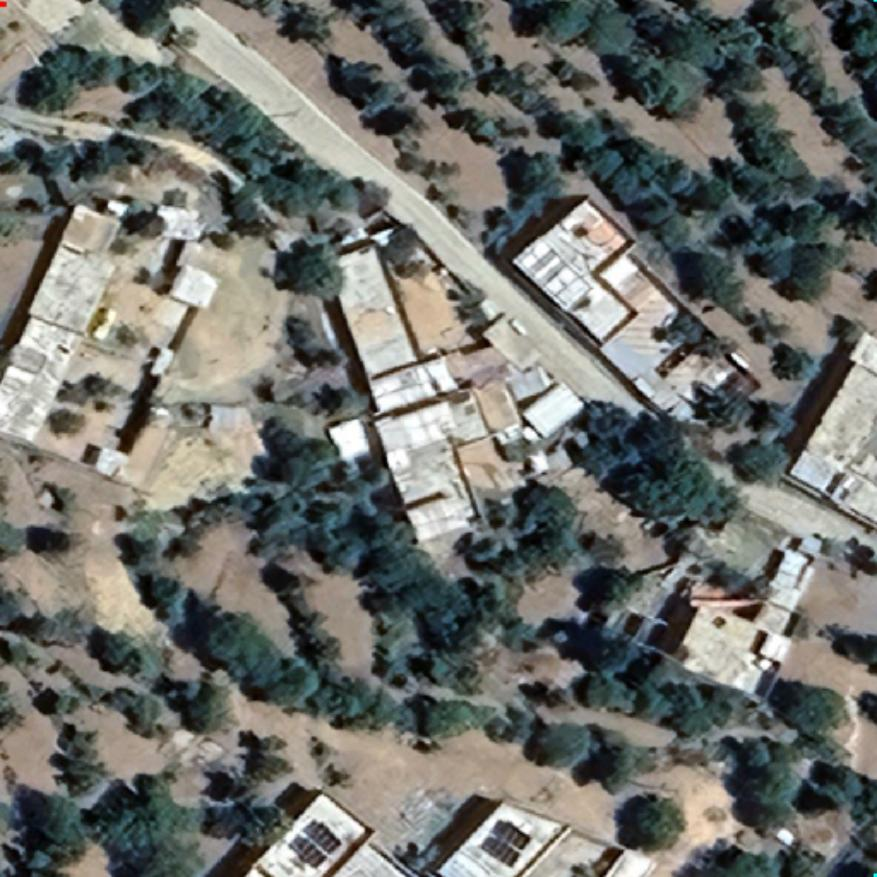Solarpanel: (480, 819, 532, 870), (299, 816, 343, 856), (286, 832, 328, 872)
